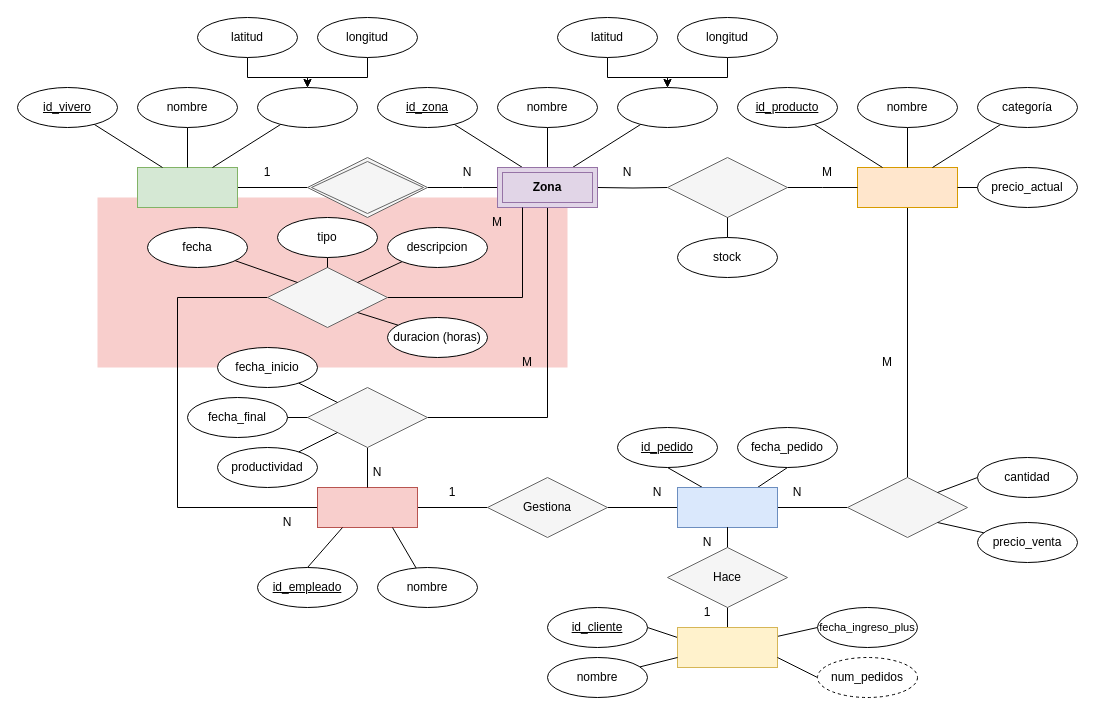
This 1095x715 diagram has some shape labels left out. Here are the shapes that lost their labels. From the top down, the centre of each, then its label:
At point (307, 107): "georef (lat, lon)".
At point (667, 107): "georef (lat ,lon)".
At point (187, 187): "Vivero".
At point (367, 187): "Tiene".
At point (727, 187): "Se asigna".
At point (907, 187): "Producto".
At point (327, 297): "Mantenimiento".
At point (367, 417): "Puesto".
At point (367, 507): "Empleado".
At point (727, 507): "Pedido".
At point (907, 507): "Contiene".
At point (727, 647): "Cliente".
